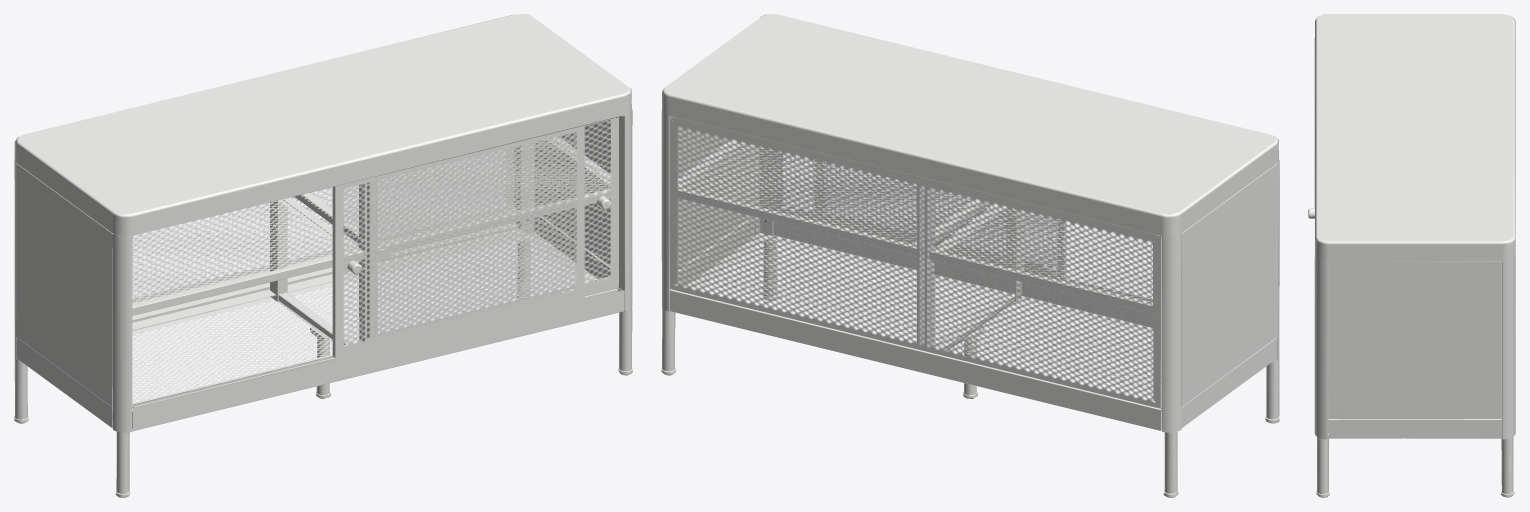
The model's file is mackapar_awa_ze_schowkiem_drzwi_przesuwane_20544487.glb.
The picture shows the model from 3 angles, left to right: view 1: azimuth 30°, elevation 25°; view 2: azimuth 150°, elevation 25°; view 3: azimuth 270°, elevation 25°; orthographic projection. The views are drawn at different scales.
Parts seen in each view (by area): view 1: mackapar_awa_ze_schowkiem_drzwi_przesuwane_20544487; view 2: mackapar_awa_ze_schowkiem_drzwi_przesuwane_20544487; view 3: mackapar_awa_ze_schowkiem_drzwi_przesuwane_20544487.
Part boxes in pixels (bbox=[...]): mackapar_awa_ze_schowkiem_drzwi_przesuwane_20544487: bbox=[14, 14, 632, 497]; mackapar_awa_ze_schowkiem_drzwi_przesuwane_20544487: bbox=[661, 14, 1279, 497]; mackapar_awa_ze_schowkiem_drzwi_przesuwane_20544487: bbox=[1308, 14, 1515, 497].
Size of the model in its own units: 1 by 0.5229 by 0.3826.
2 materials, 2 textured.
